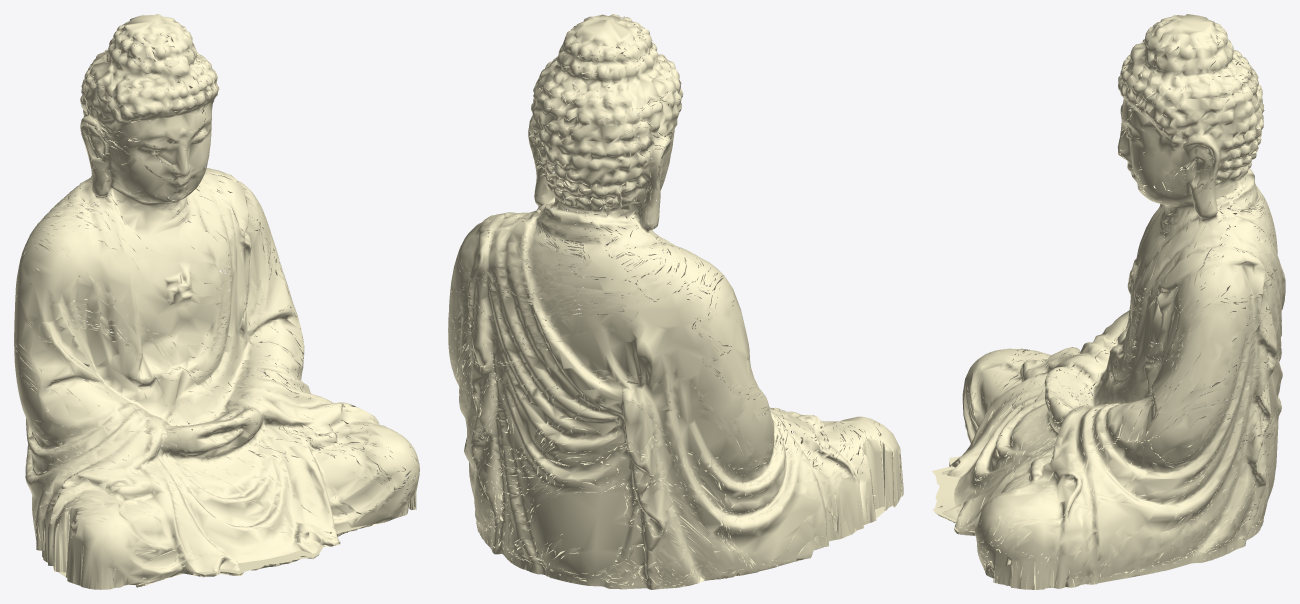
Rendered from seated-buddha-lod.glb.
3 renders of one model, left to right at view 1: azimuth 30°, elevation 25°; view 2: azimuth 150°, elevation 25°; view 3: azimuth 270°, elevation 25°, orthographic. The views are drawn at different scales.
Visible parts, largest first — view 1: Object_10, Object_2, Object_4, Object_13, Object_3, Object_9, Object_21, Object_11, Object_7, Object_12, Object_19, Object_20 (+9 smaller); view 2: Object_16, Object_17, Object_15, Object_12, Object_14, Object_11, Object_9, Object_8, Object_2, Object_6, Object_18, Object_13 (+9 smaller); view 3: Object_5, Object_3, Object_6, Object_4, Object_2, Object_7, Object_9, Object_21, Object_8, Object_13, Object_11, Object_14 (+9 smaller).
Part boxes in pixels (x1,y1,x2,y2): Object_10: (16, 80, 382, 537); Object_2: (37, 14, 419, 589); Object_4: (26, 21, 418, 570); Object_13: (30, 30, 414, 577); Object_3: (53, 26, 419, 572); Object_9: (14, 146, 389, 479); Object_21: (77, 48, 364, 587); Object_11: (18, 26, 356, 585); Object_7: (24, 70, 347, 506); Object_12: (26, 28, 413, 587); Object_19: (72, 34, 393, 575); Object_20: (97, 25, 419, 581); Object_16: (470, 223, 792, 571); Object_17: (459, 225, 849, 558); Object_15: (486, 110, 869, 588); Object_12: (464, 16, 895, 578); Object_14: (460, 26, 842, 576); Object_11: (448, 16, 867, 579); Object_9: (448, 100, 785, 581); Object_8: (464, 49, 875, 583); Object_2: (476, 14, 903, 589); Object_6: (448, 51, 864, 585); Object_18: (448, 105, 869, 538); Object_13: (448, 27, 833, 577); Object_5: (960, 65, 1282, 582); Object_3: (937, 44, 1275, 562); Object_6: (955, 48, 1285, 577); Object_4: (942, 23, 1257, 541); Object_2: (932, 14, 1264, 589); Object_7: (1054, 63, 1281, 503); Object_9: (1049, 87, 1280, 588); Object_21: (997, 67, 1258, 586); Object_8: (968, 29, 1279, 566); Object_13: (968, 22, 1285, 588); Object_11: (968, 17, 1281, 540); Object_14: (970, 23, 1281, 587).
Size of the model in its own units: 150 by 193 by 126.
